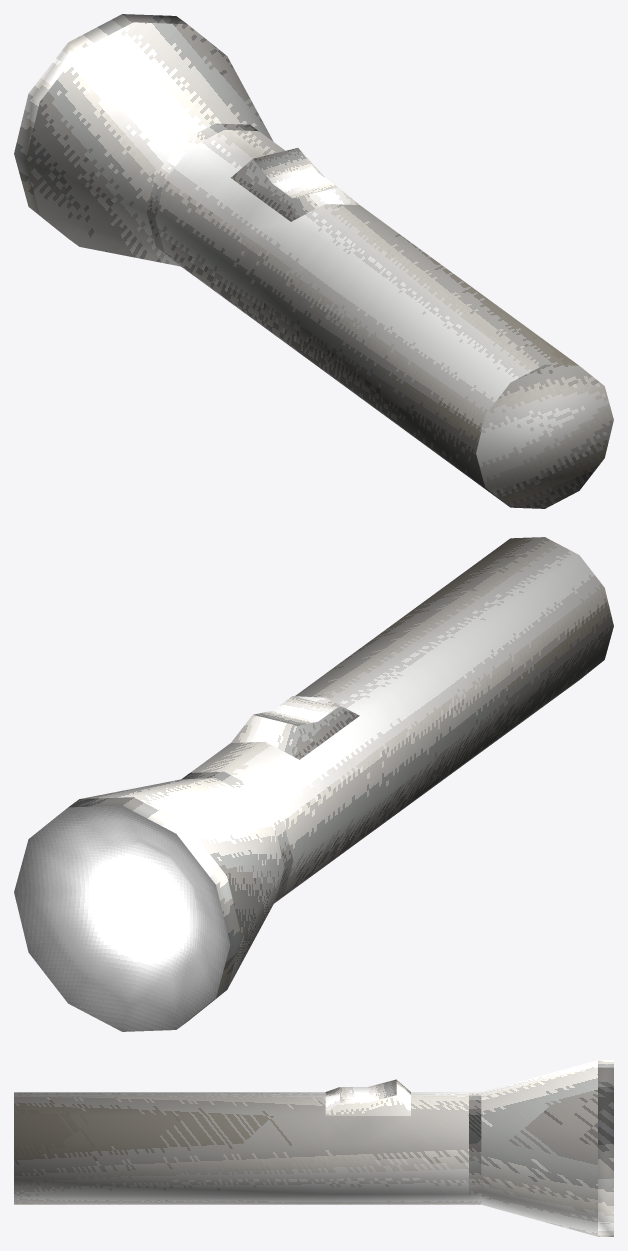
The model's file is flashlight.glb.
The picture shows the model from 3 angles, top to bottom: view 1: azimuth 30°, elevation 25°; view 2: azimuth 150°, elevation 25°; view 3: azimuth 270°, elevation 25°; orthographic projection. The views are drawn at different scales.
Parts seen in each view (by area): view 1: Flashlight; view 2: Flashlight; view 3: Flashlight.
Boxes of the visible parts, x1,y1,x2,y2 form: Flashlight: [14, 14, 613, 508]; Flashlight: [14, 537, 613, 1031]; Flashlight: [14, 1060, 613, 1236].
Bounding box in the file's own units: 0.2927 × 0.2927 × 0.9901.
1 material, 1 textured.
